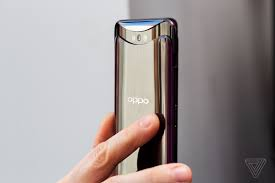oppo: (111, 13, 179, 181)
